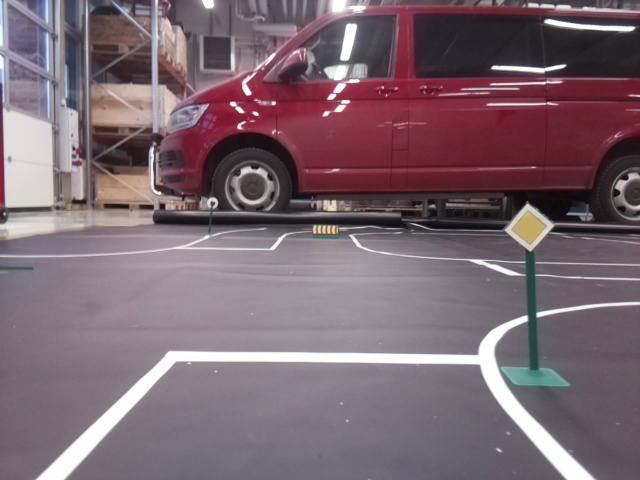Priority: (502, 201, 557, 250)
